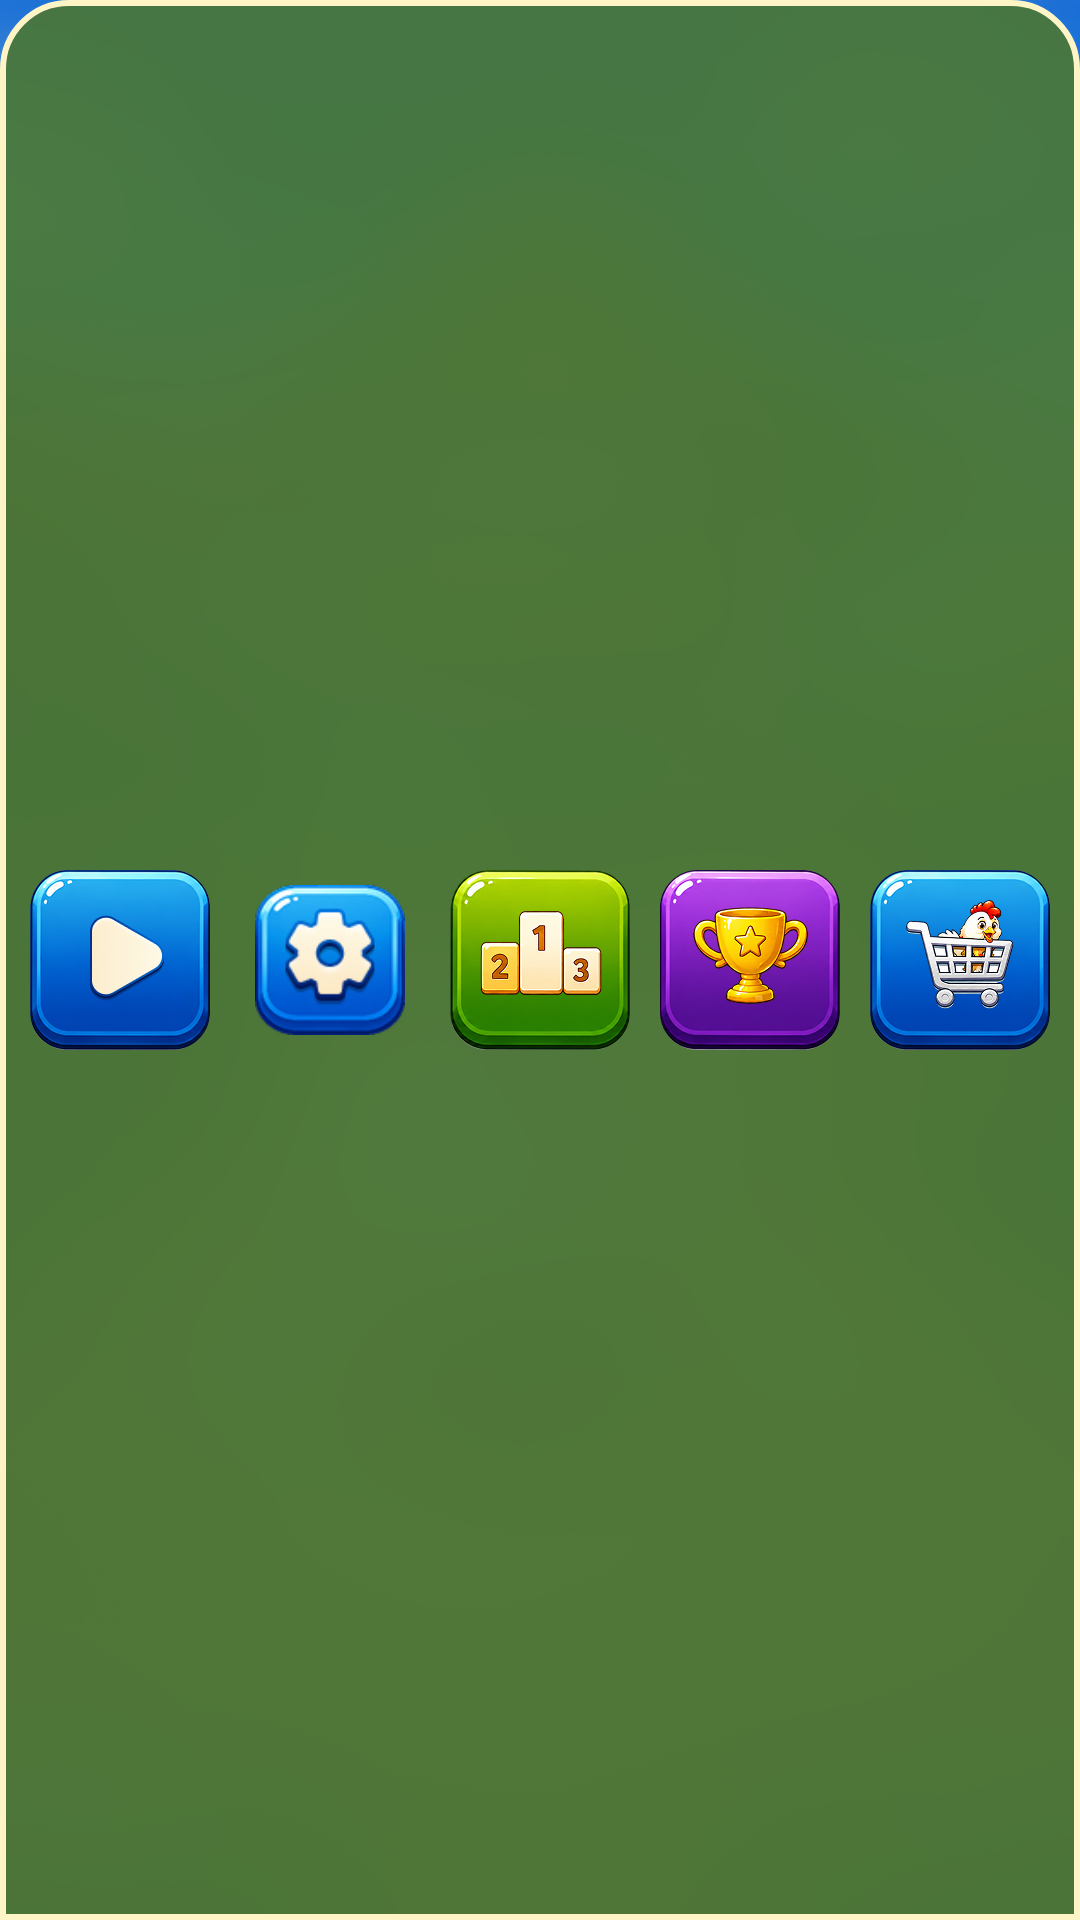

Icon click points for this 1080px×1920px phone screenshot, format (x,y):
Achievements: (750,960)
Leaderboard: (540,960)
Settings: (330,960)
Shop: (960,960)
